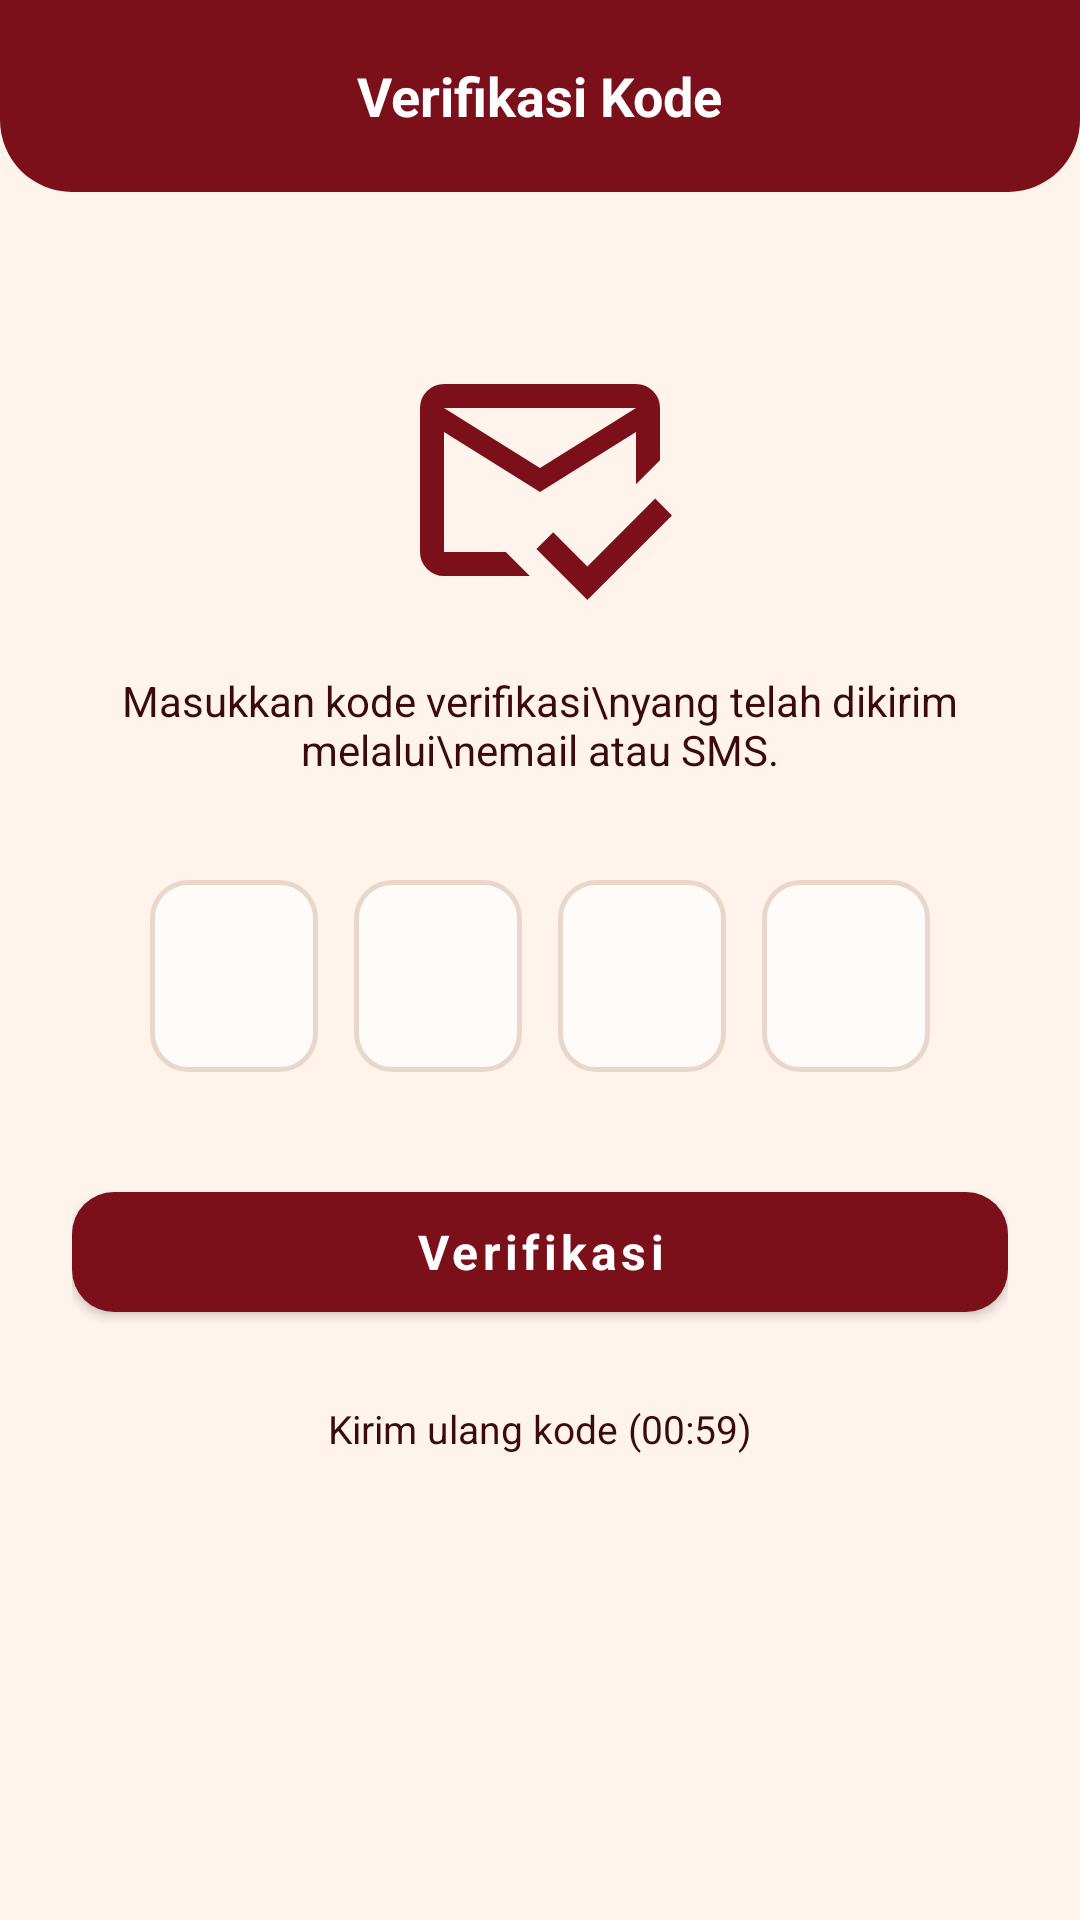

Named icons in this screenshot (1080px×1920px) and their bounding boxes, {"left": x1, "top": y1, "right": x2, "bottom": y2}:
mail check: {"left": 420, "top": 384, "right": 672, "bottom": 600}
